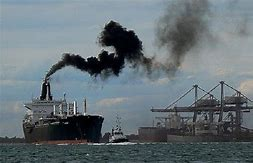smoke: (42, 1, 157, 81)
